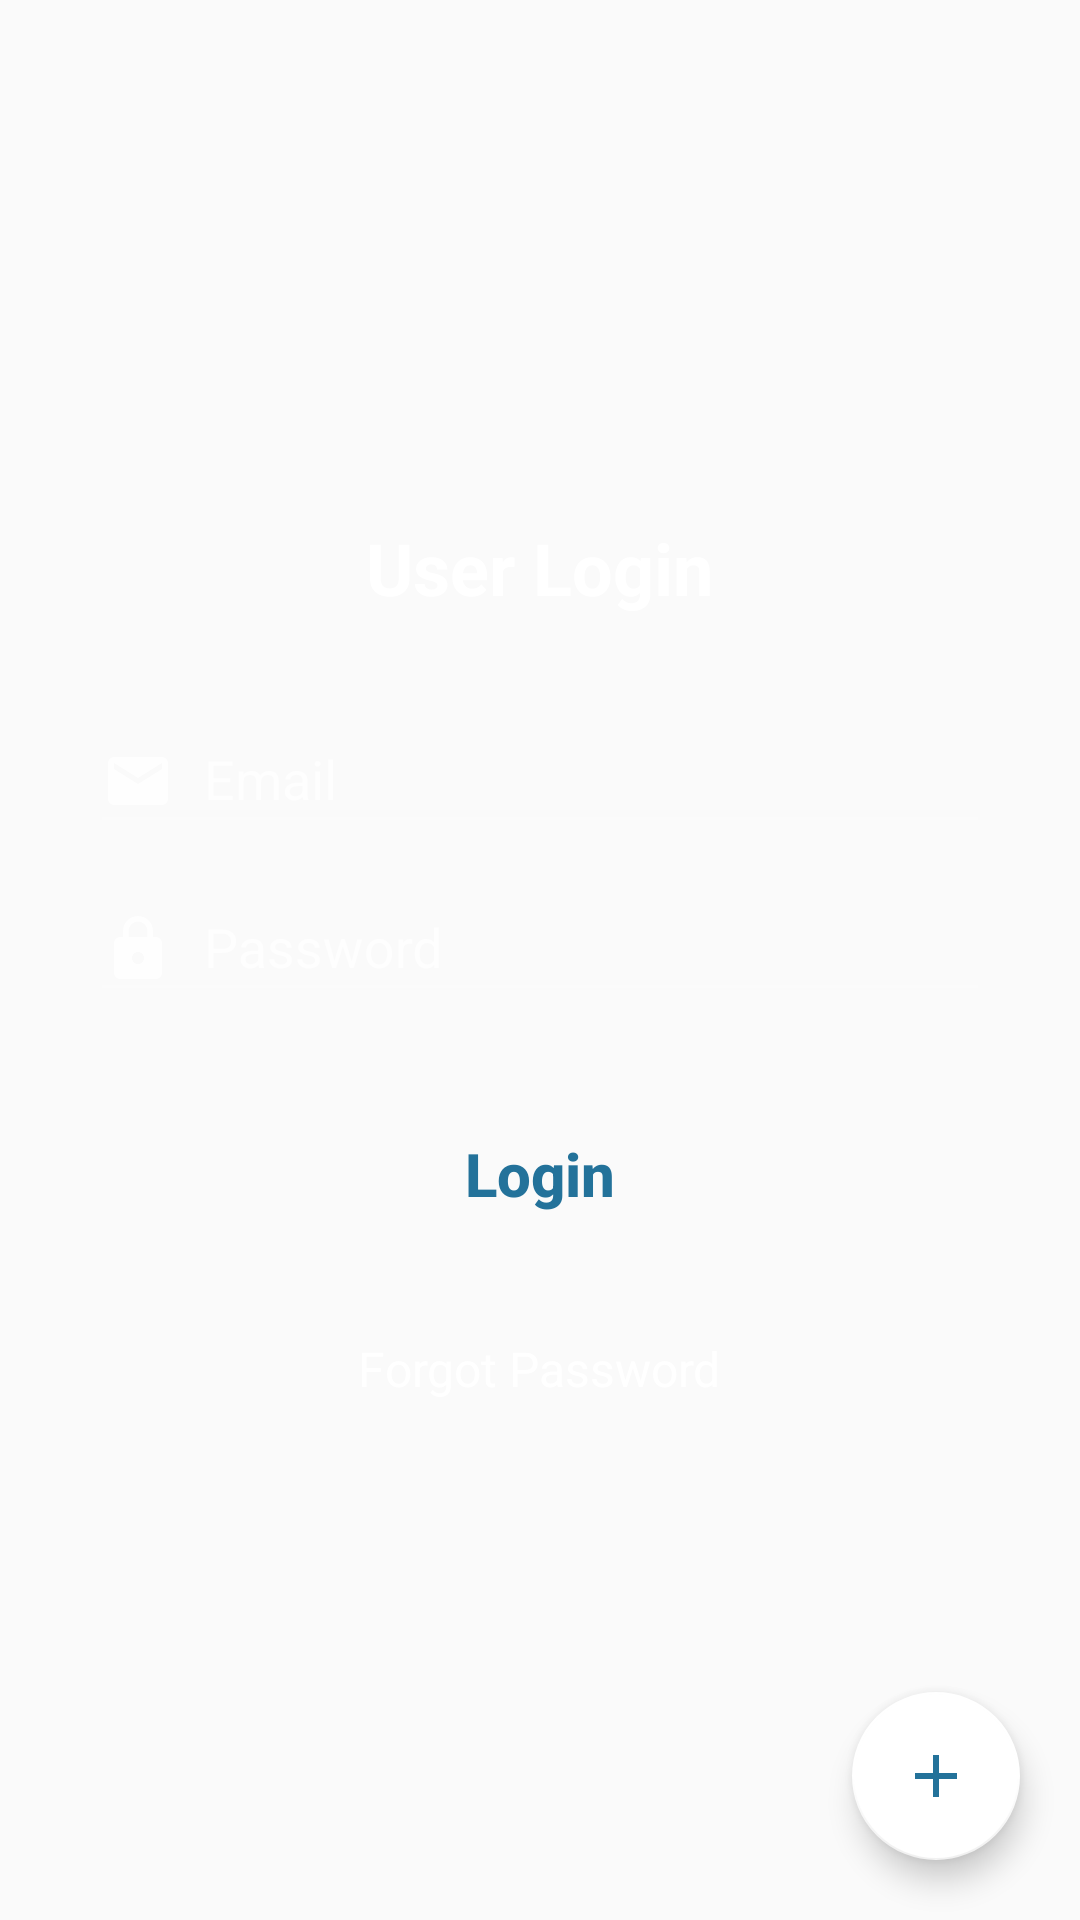

Named icons in this screenshot (1080px×1920px) and their bounding boxes, [x1=x1, y1=y1, x2=x2, y2=y2]:
add: [x1=856, y1=1755, x2=1020, y2=1860]
